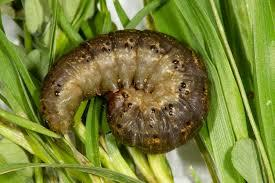caterpillars: (0, 15, 248, 172)
